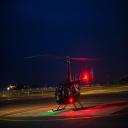helicopter: (24, 39, 106, 101)
